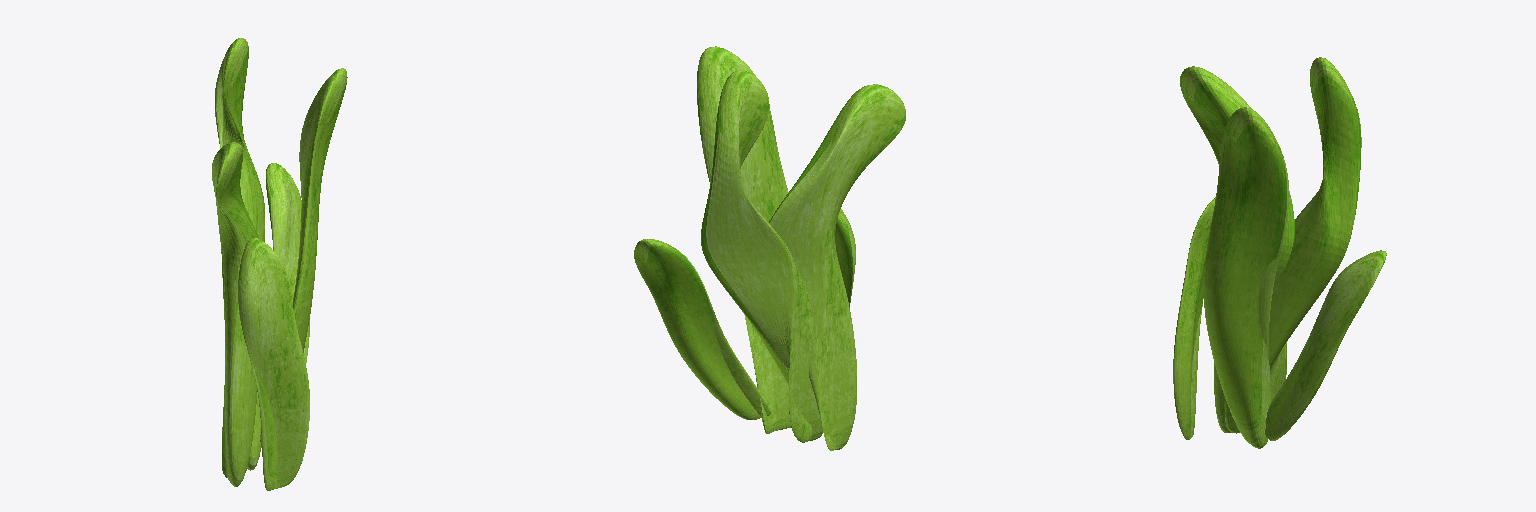
3 views of the same model, side by side, from view 1: azimuth 30°, elevation 25°; view 2: azimuth 150°, elevation 25°; view 3: azimuth 270°, elevation 25° (orthographic).
Visible parts, largest first — view 1: Cube; view 2: Cube; view 3: Cube.
Boxes of the visible parts, x1=… form: Cube: x1=212, y1=38, x2=347, y2=490; Cube: x1=634, y1=46, x2=905, y2=450; Cube: x1=1173, y1=57, x2=1386, y2=448.
Size of the model in its own units: 2.54 by 5.46 by 2.64.
Materials: 1 (1 with a texture image).